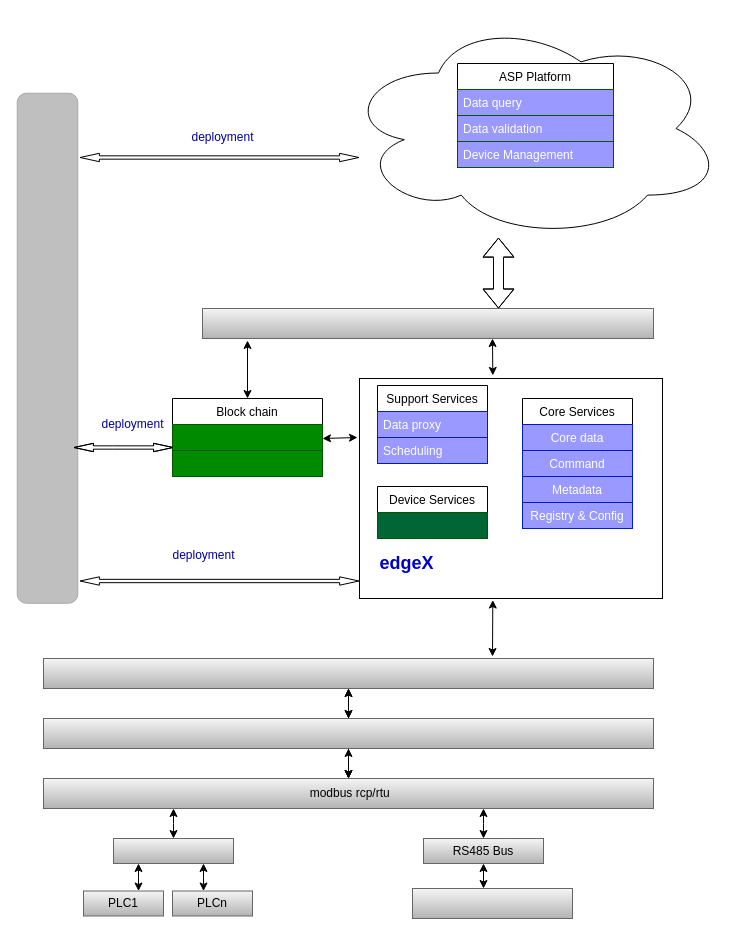
Some shapes in this 742 by 936 pixel diagram are drawn without their labels. Here are the shapes that lost their labels. From the top down, the centre of each, then its label:
At (428,323): "Internel message bus".
At (47,347): "baetyl".
At (247,437): "Distributed data storage".
At (247,463): "transaction".
At (432,525): "Device-edgecomm".
At (348,673): "Linux system interface".
At (348,733): "Intel based platform".
At (173,851): "LAN".
At (492,903): "temp sensor".
